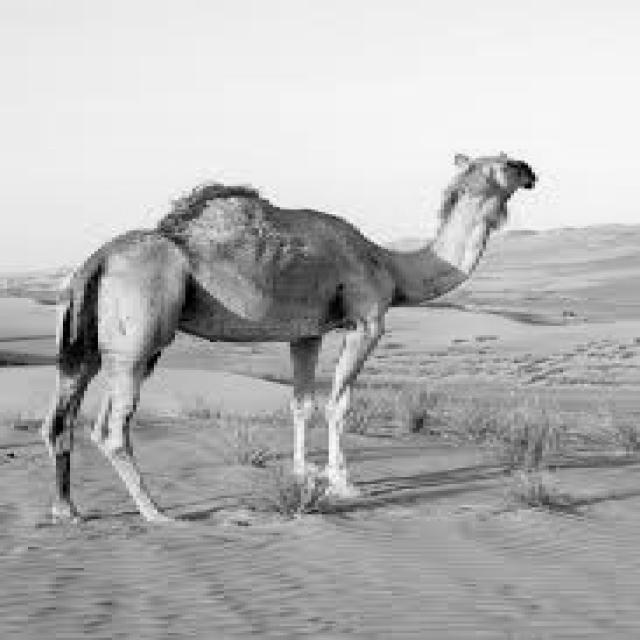Camel: (39, 149, 538, 524)
